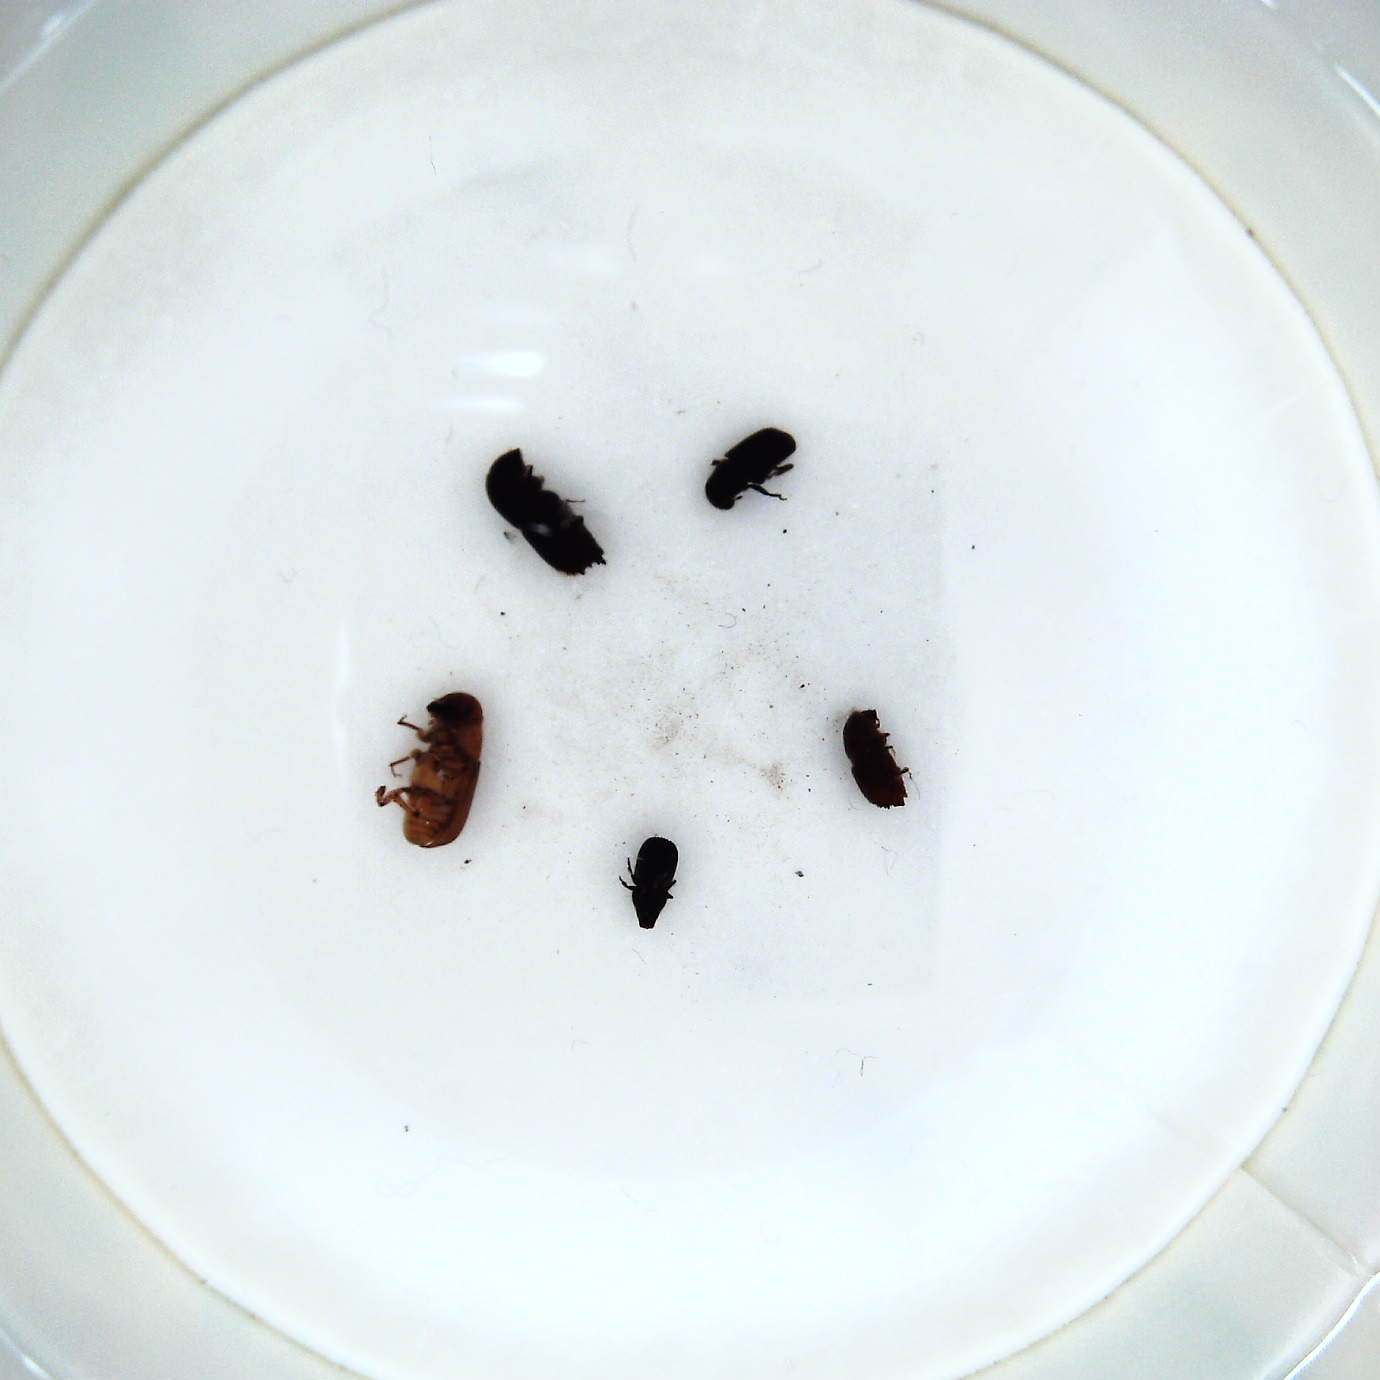Boerner: (480, 444, 615, 586)
Leconte: (372, 687, 494, 856)
armandi: (698, 425, 811, 517)
coleoptera: (619, 837, 685, 934)
linnaeus: (838, 701, 916, 819)
